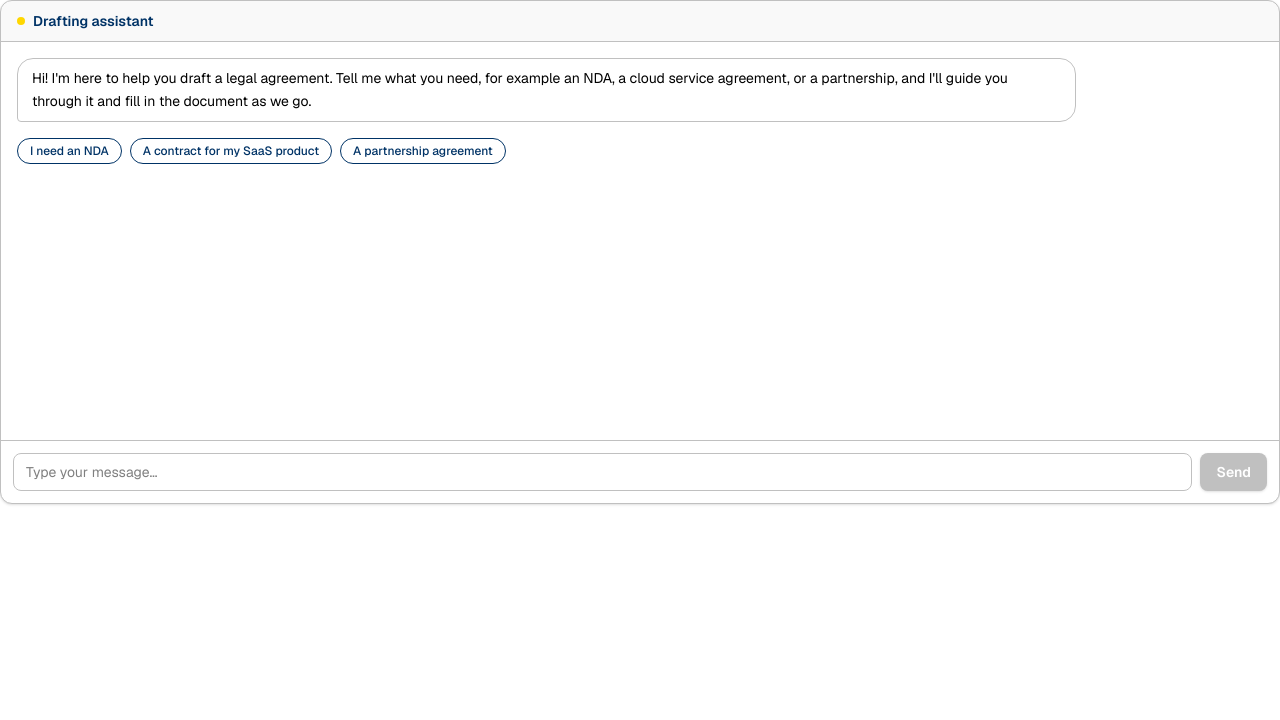
Test: ChatPanel › sends a null document id before one is chosen and passes a null back when none was chosen
In the field labelled "message": (603, 472) [13,453,1192,491], type "I need a lease"
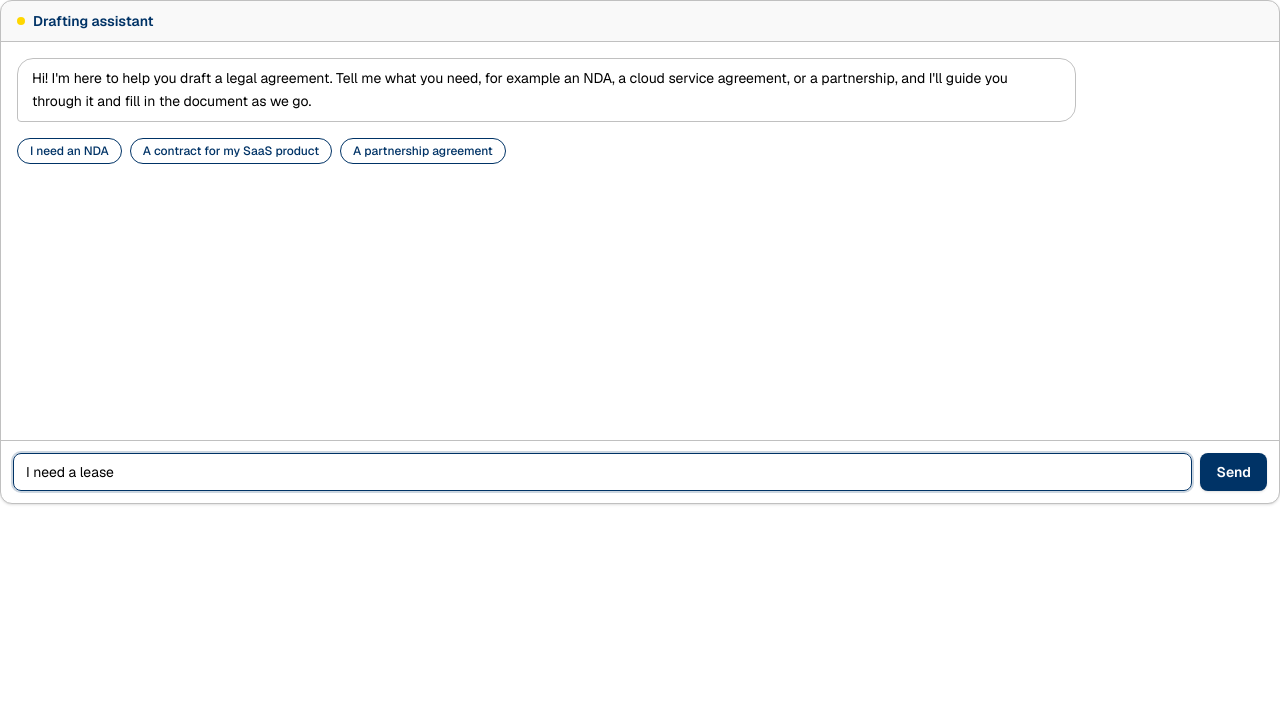
Click the button "Send": (1234, 472) [1200,453,1267,491]
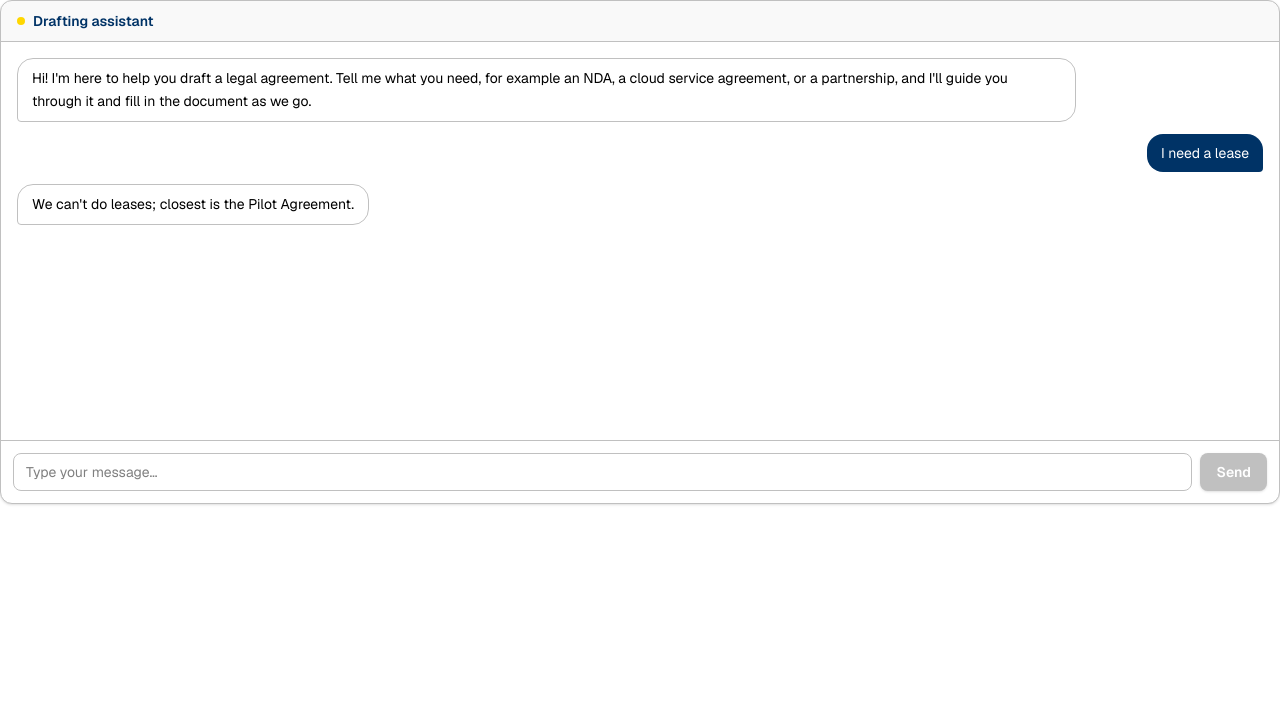
Expected: the text "We can't do leases; closest is the Pilot Agreement." is shown, [17,184,369,225]
